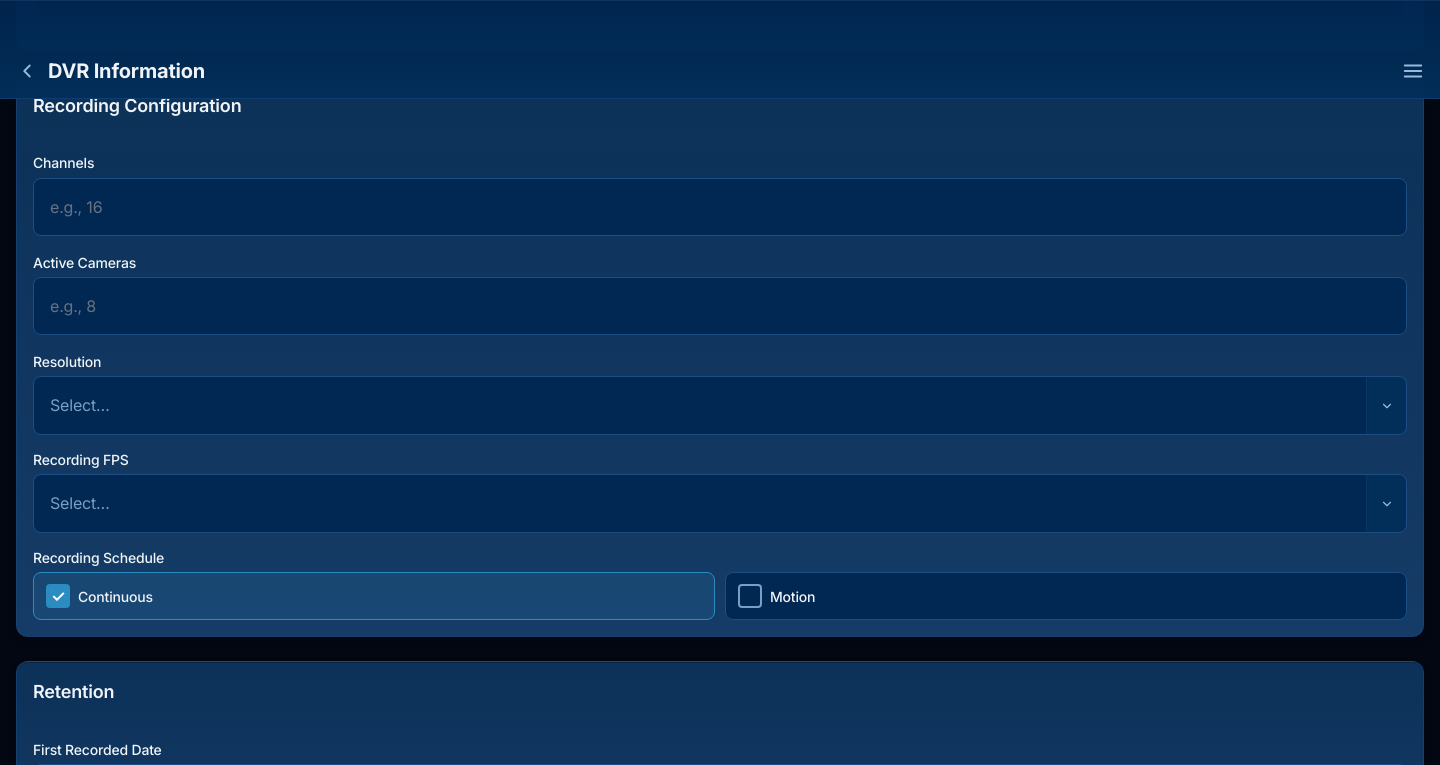
Test case: DVR Information custom Resolution/FPS path (phone dvr-information.tsx:124-142) › selecting Other (Custom) reveals the free-text input WITHOUT writing to the store
The image size is (1440, 765).
(page scrolled)
Expected: the field labelled "Custom Resolution" is not shown
What coordinates should you click on to do the following:
click the button named "Resolution"
I would click on:
 (80, 405)
Its box is [33, 376, 1407, 435].
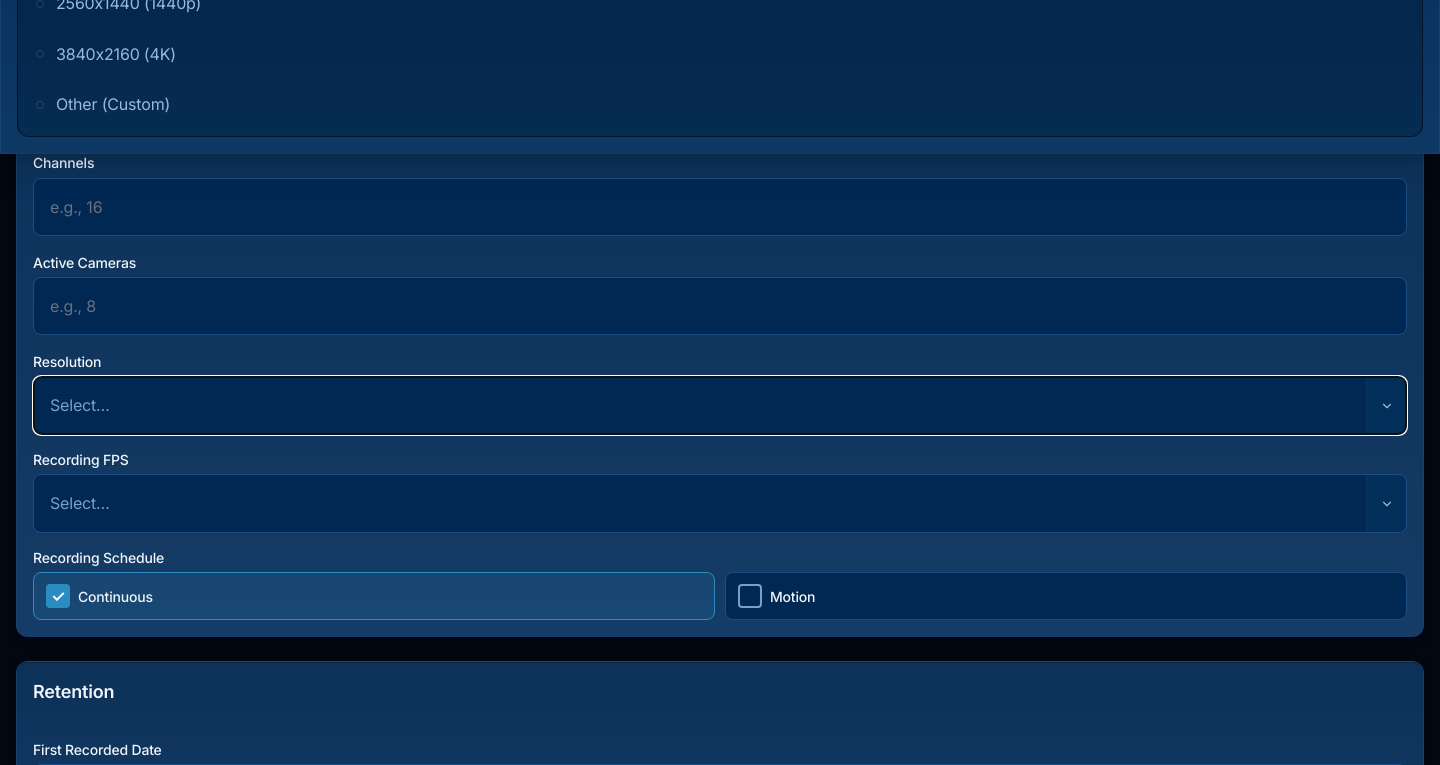
What coordinates should you click on to do the following:
click the menu item "Other (Custom)"
I would click on:
 (113, 104)
Its box is [23, 80, 1417, 129].
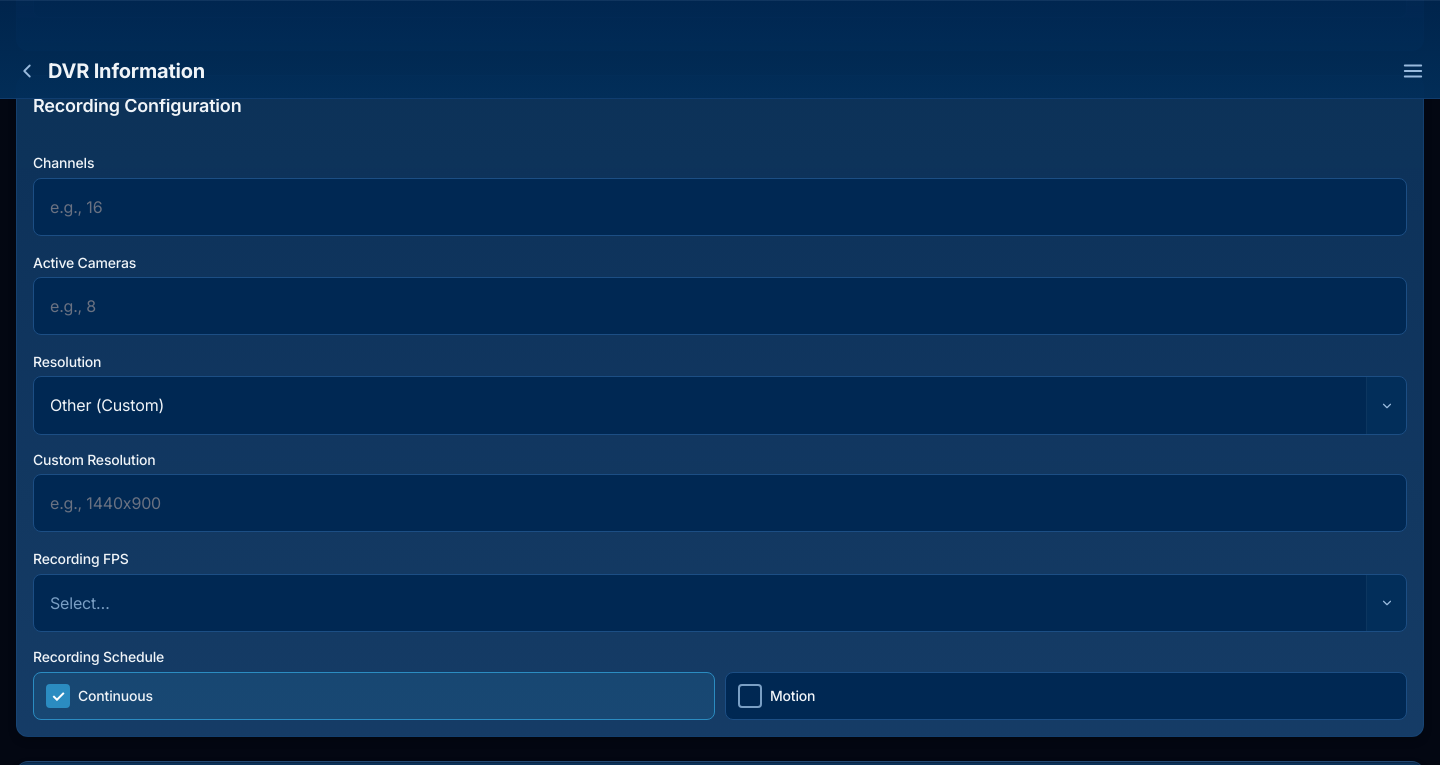
Expected: the field named "Custom Resolution" is shown, [33, 474, 1407, 532]
